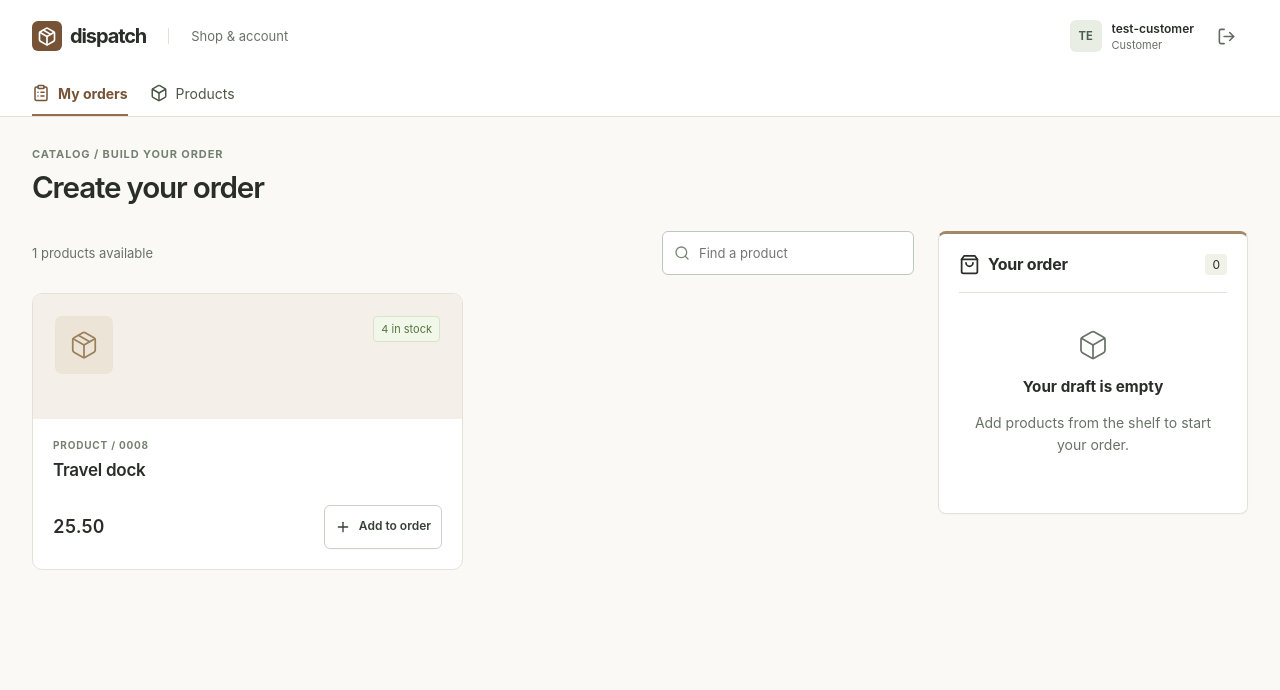
Scenario: creates an order from the cart and navigates to its detail
Click the button "Add to order". click: (383, 527)
box: [324,505,442,549]
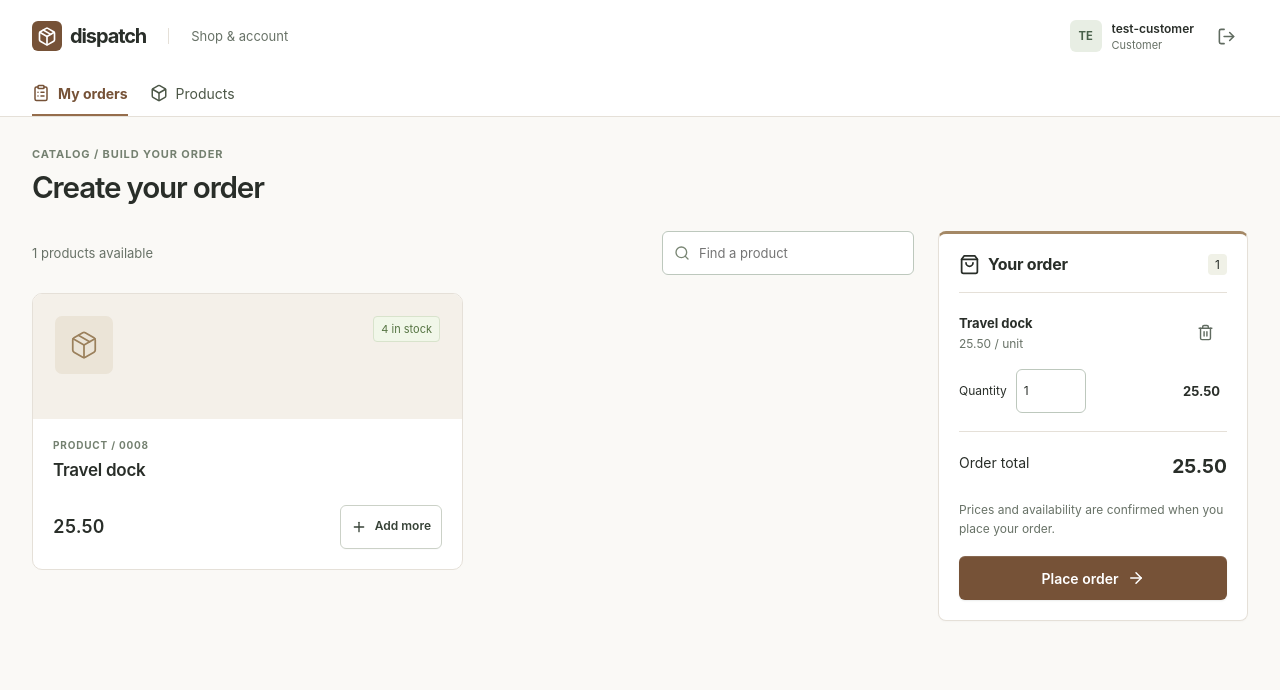
Click the button "Place order". click: (1093, 578)
box: [959,556,1227,600]
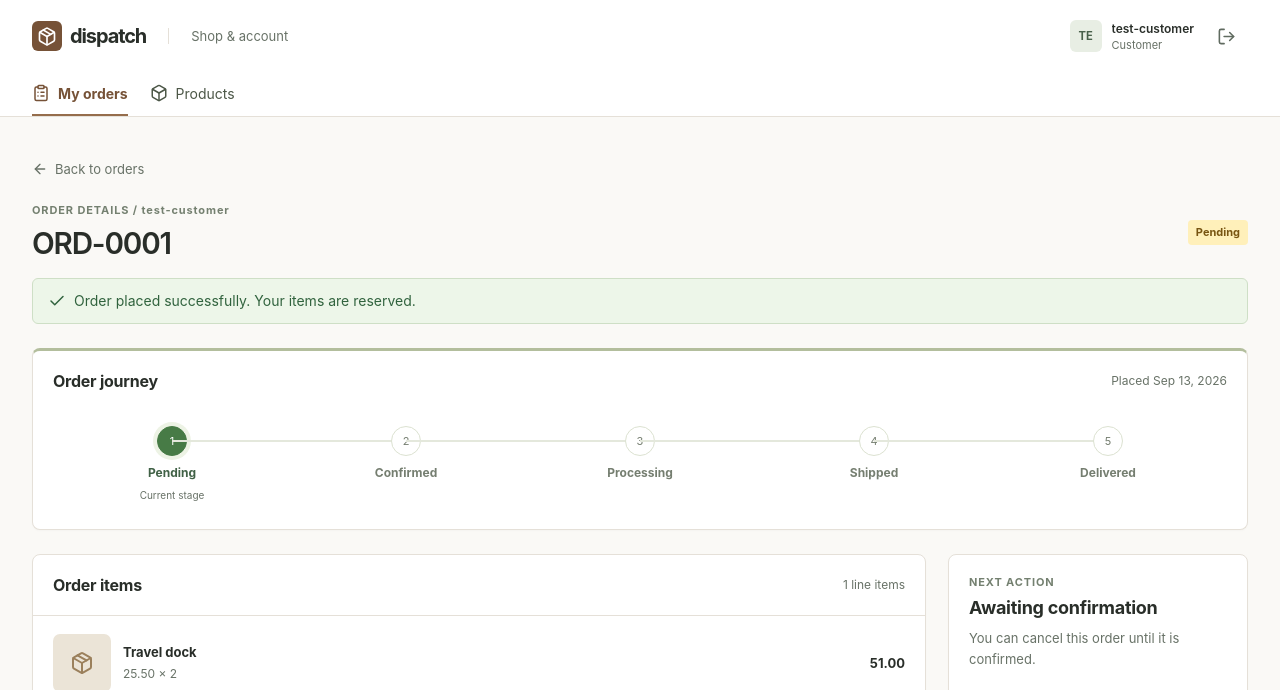
Check: the heading "ORD-0001" is shown, box [32,225,171,261]
